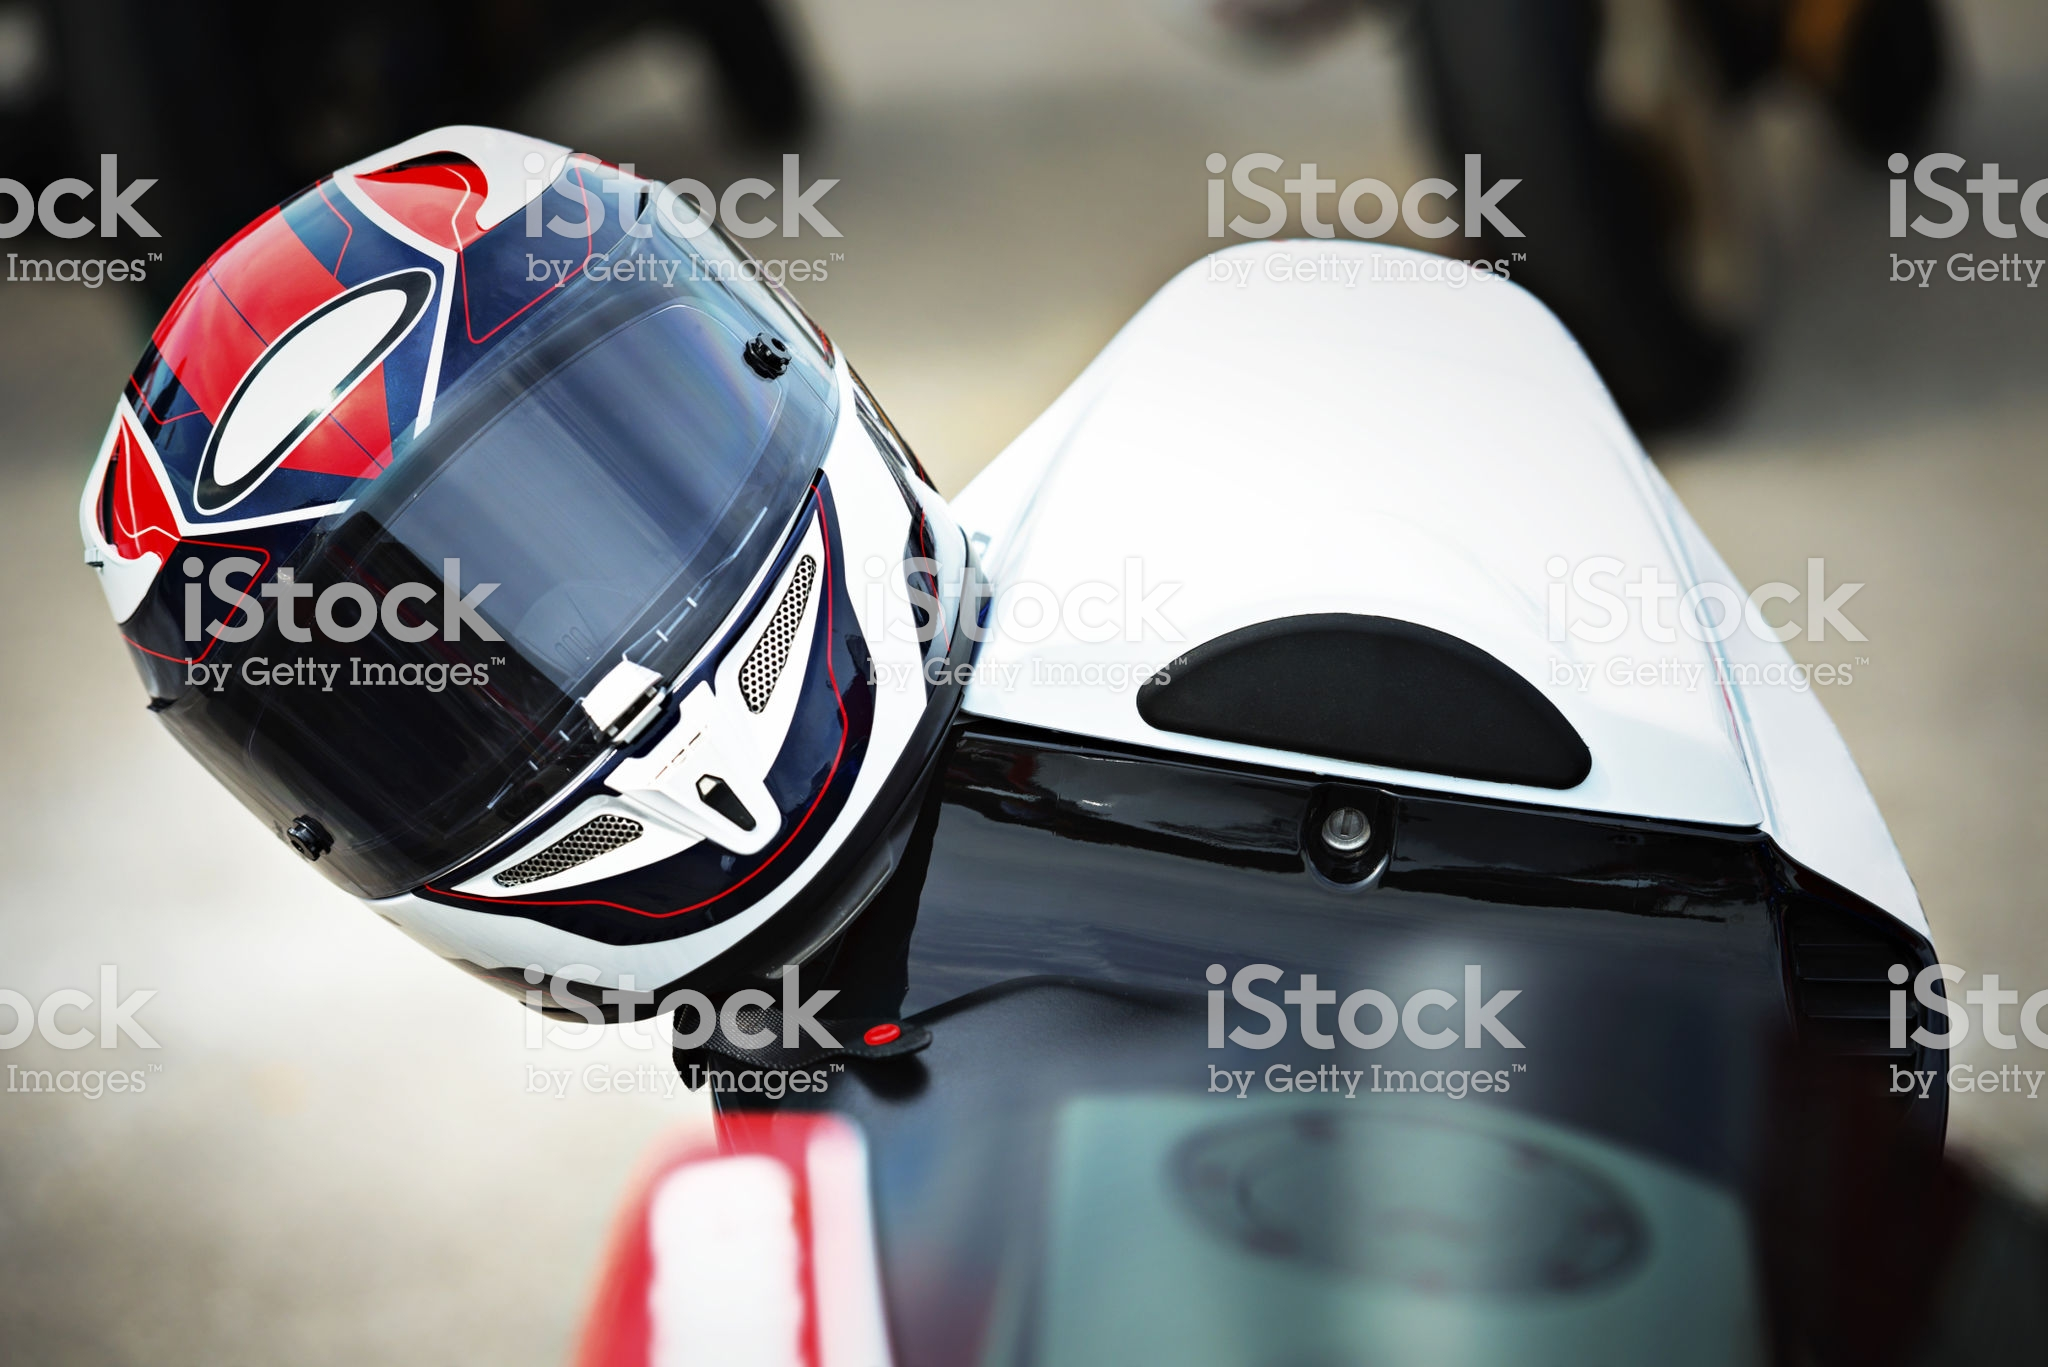helmet: (119, 179, 967, 1018)
